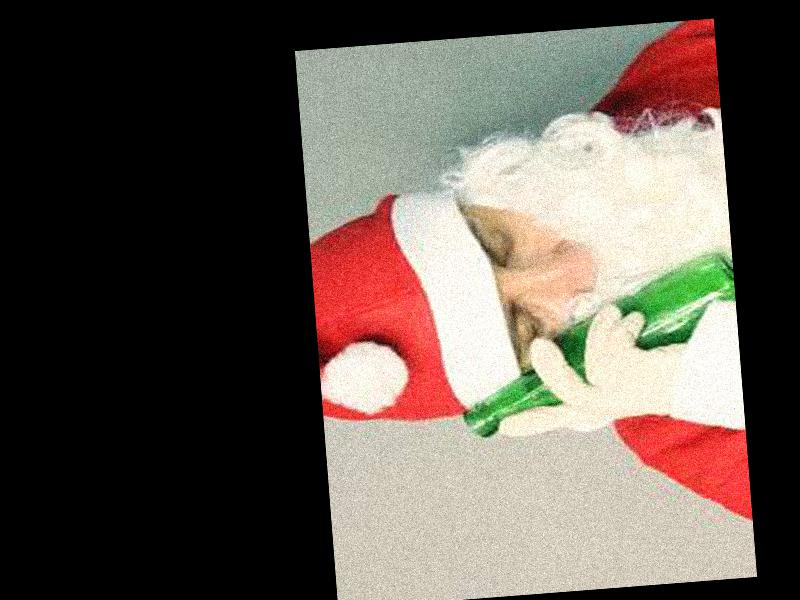Beer: (455, 255, 745, 440)
